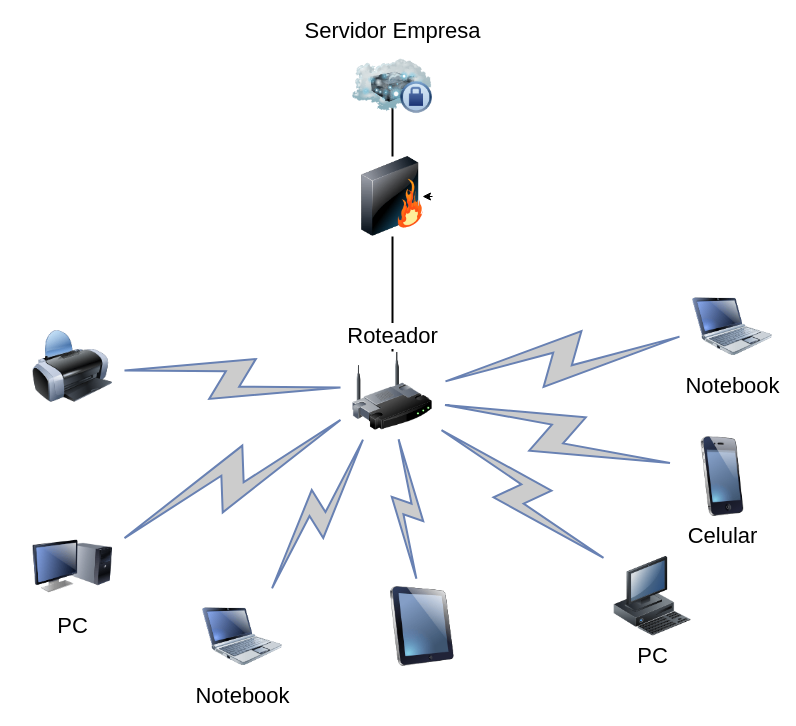
The diagram is 796 pixels wide and 726 high, and some of its shapes have lost their labels. The centre of each missing label's shape, as x and y in pixels:
"Firewall" goes at point 392,196.
"Impressora" goes at point 72,366.
"Tablet" goes at point 422,626.
